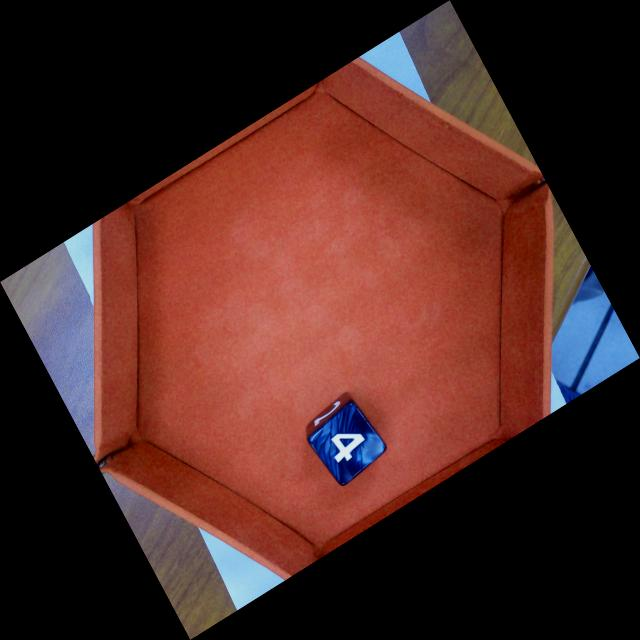dice: (306, 402, 389, 486)
